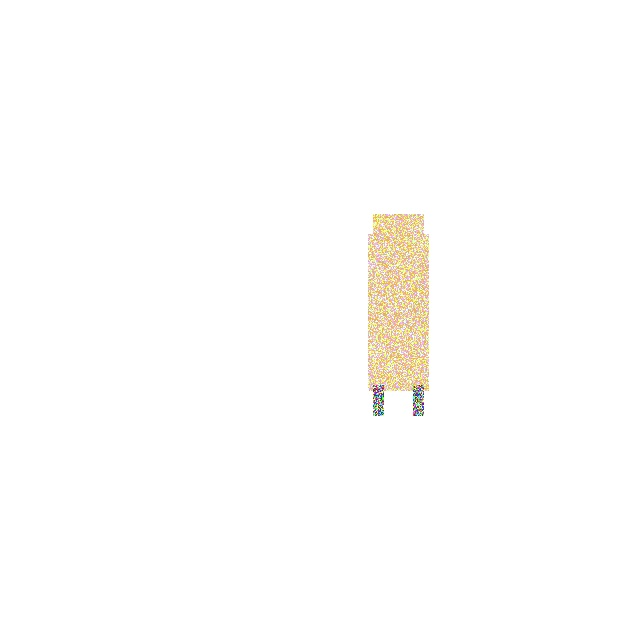Chaise: (368, 234, 428, 390)
